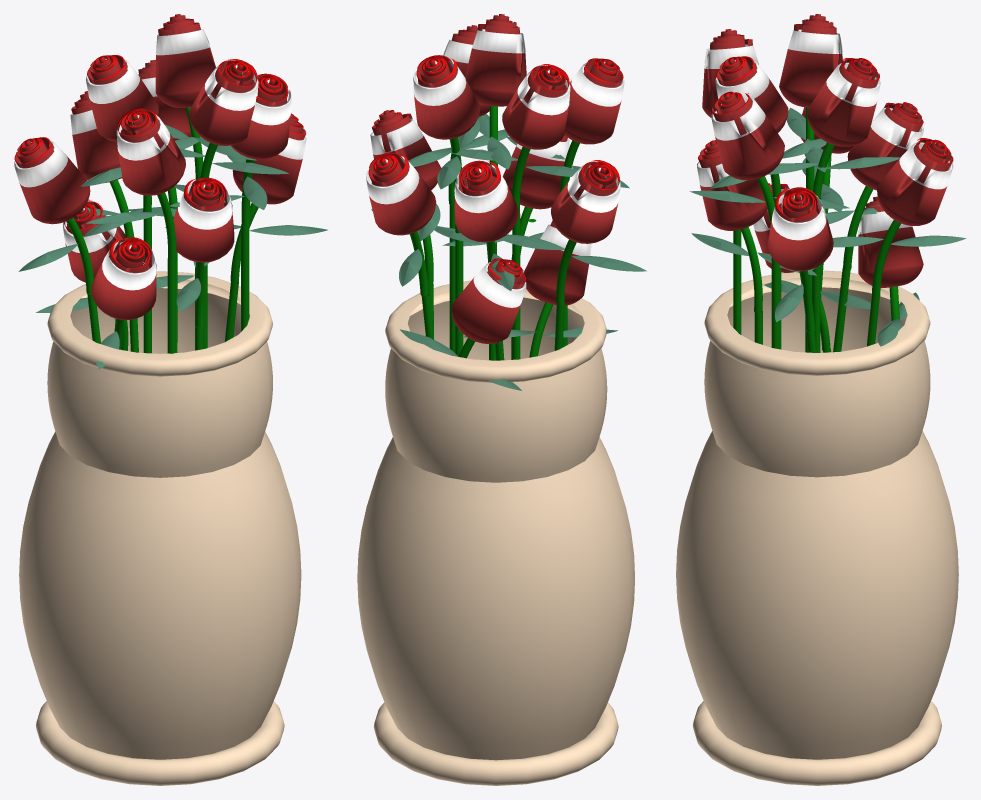
3 renders of one model, left to right at view 1: azimuth 30°, elevation 25°; view 2: azimuth 150°, elevation 25°; view 3: azimuth 270°, elevation 25°, orthographic.
Visible parts, largest first — view 1: Mesh1_Group1_Model.005; view 2: Mesh1_Group1_Model.005; view 3: Mesh1_Group1_Model.005.
Part boxes in pixels (x1,y1,x2,y2): Mesh1_Group1_Model.005: (14, 14, 327, 785); Mesh1_Group1_Model.005: (357, 14, 646, 785); Mesh1_Group1_Model.005: (676, 14, 966, 785).
Bounding box in the file's own units: 1.08 × 2.43 × 0.9201.
